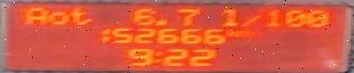-: (153, 18, 167, 25)
0: (281, 8, 304, 26), (304, 9, 328, 26)
1: (262, 8, 281, 26), (99, 27, 109, 42)
2: (186, 48, 215, 65), (162, 48, 188, 65), (132, 27, 154, 42)
5: (109, 27, 132, 43)
6: (154, 27, 179, 42), (201, 27, 224, 43), (179, 28, 201, 43)
7: (175, 7, 200, 26)
8: (129, 6, 155, 25)
9: (125, 47, 153, 65)
X: (23, 6, 49, 24), (68, 6, 92, 24), (219, 7, 238, 26), (238, 11, 262, 26), (45, 10, 68, 24), (234, 30, 255, 37), (151, 51, 163, 63), (224, 27, 234, 37)
